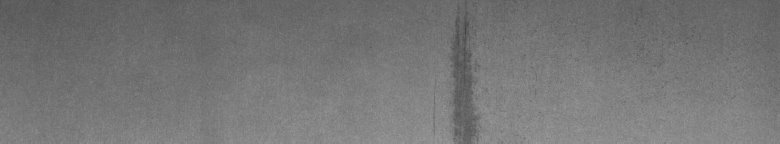hd: (448, 18, 476, 136)
